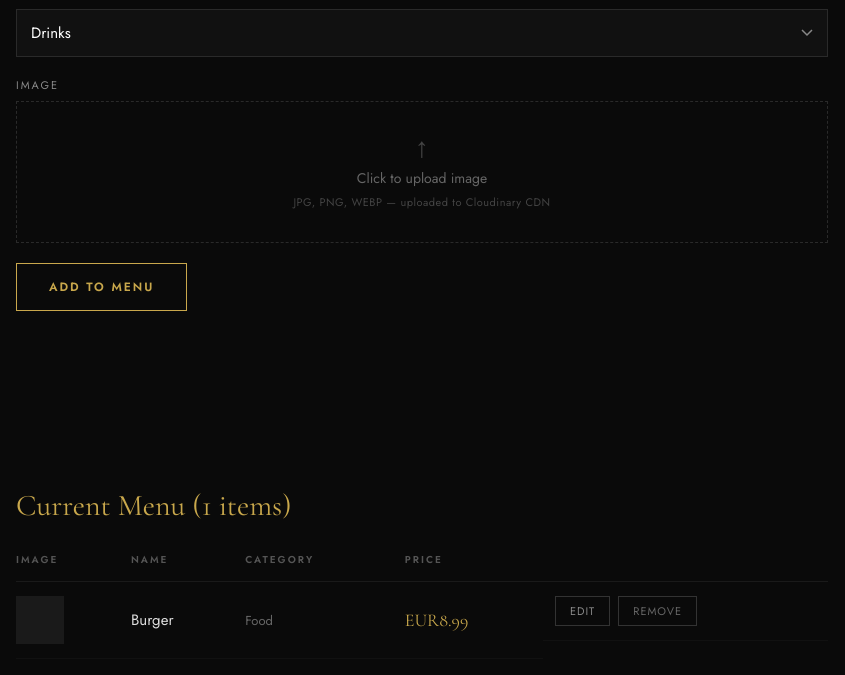
Test: AdminPage › shows Cancel button in edit mode
(page scrolled)
Expected: the text "Burger" is shown, [119,582,233,658]
Click the button "Edit": click(583, 611) [555,596,610,626]
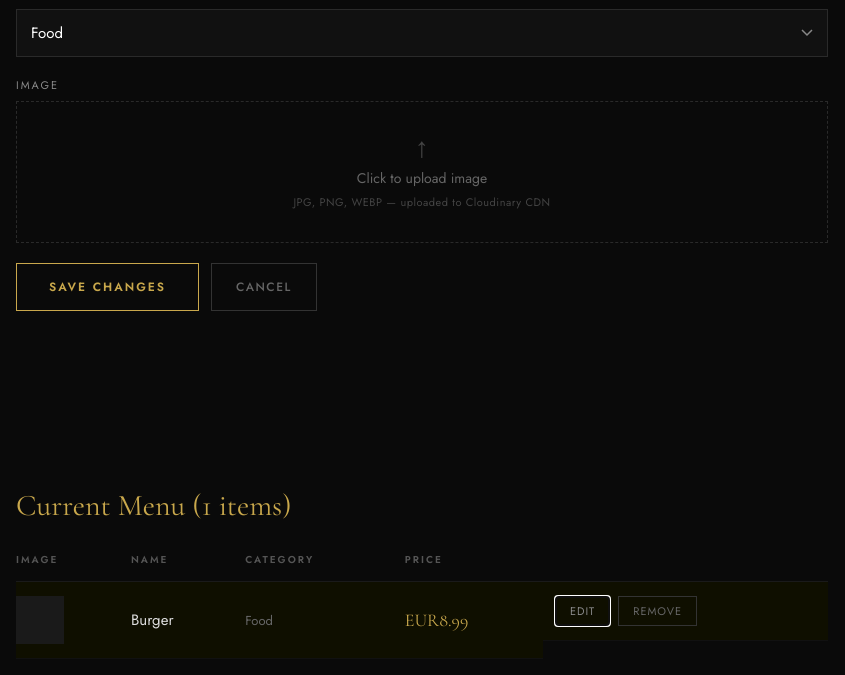
Expected: the button "Cancel" is shown, [211,263,317,311]
